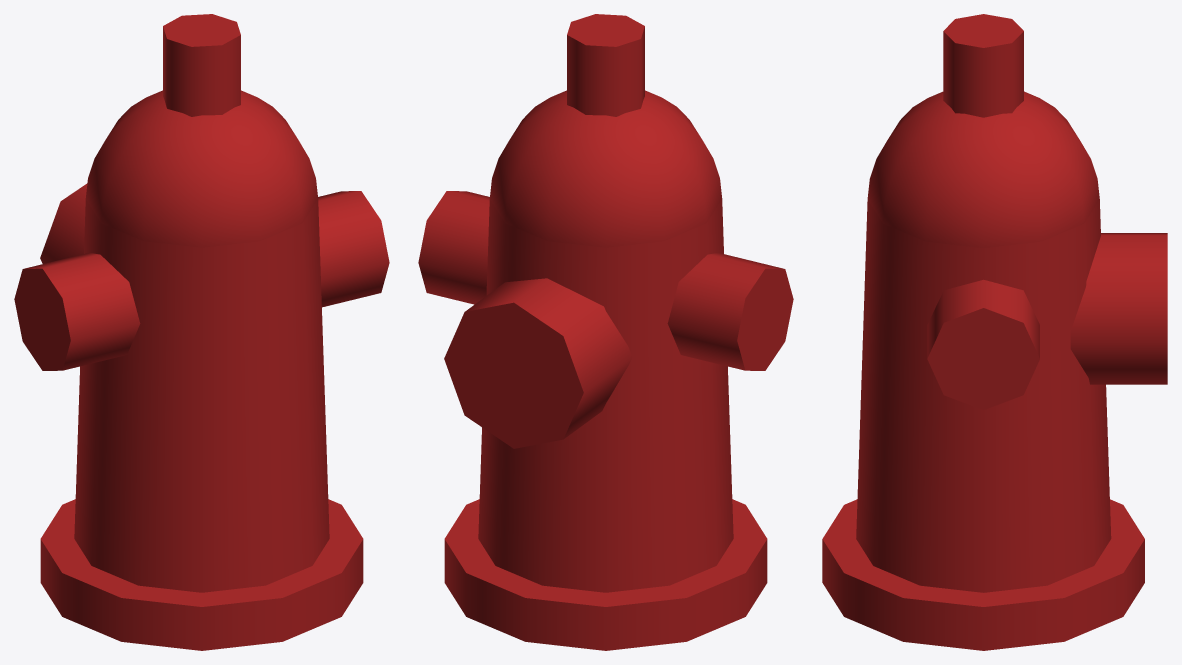
The model's file is FIRE_HYDRANT.glb.
3 views of the same model, side by side, from view 1: azimuth 30°, elevation 25°; view 2: azimuth 150°, elevation 25°; view 3: azimuth 270°, elevation 25° (orthographic).
Visible parts, largest first — view 1: paint_0; view 2: paint_0; view 3: paint_0.
Boxes of the visible parts, x1=… form: paint_0: x1=14, y1=14, x2=389, y2=650; paint_0: x1=418, y1=14, x2=793, y2=650; paint_0: x1=822, y1=14, x2=1167, y2=650.
Size of the model in its own units: 0.456 by 0.755 by 0.428.
